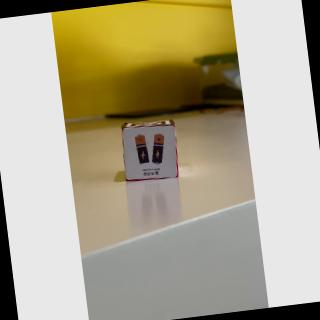Used_Battery: (120, 125, 183, 181)
